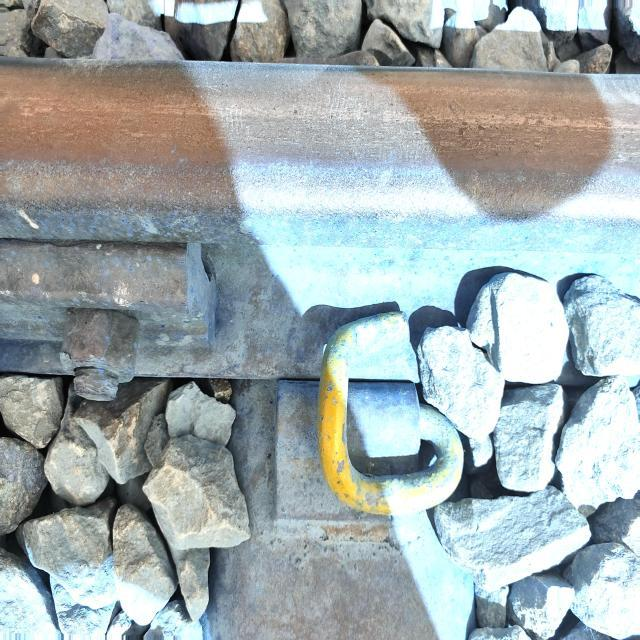Good Fasteners: (240, 282, 491, 555)
